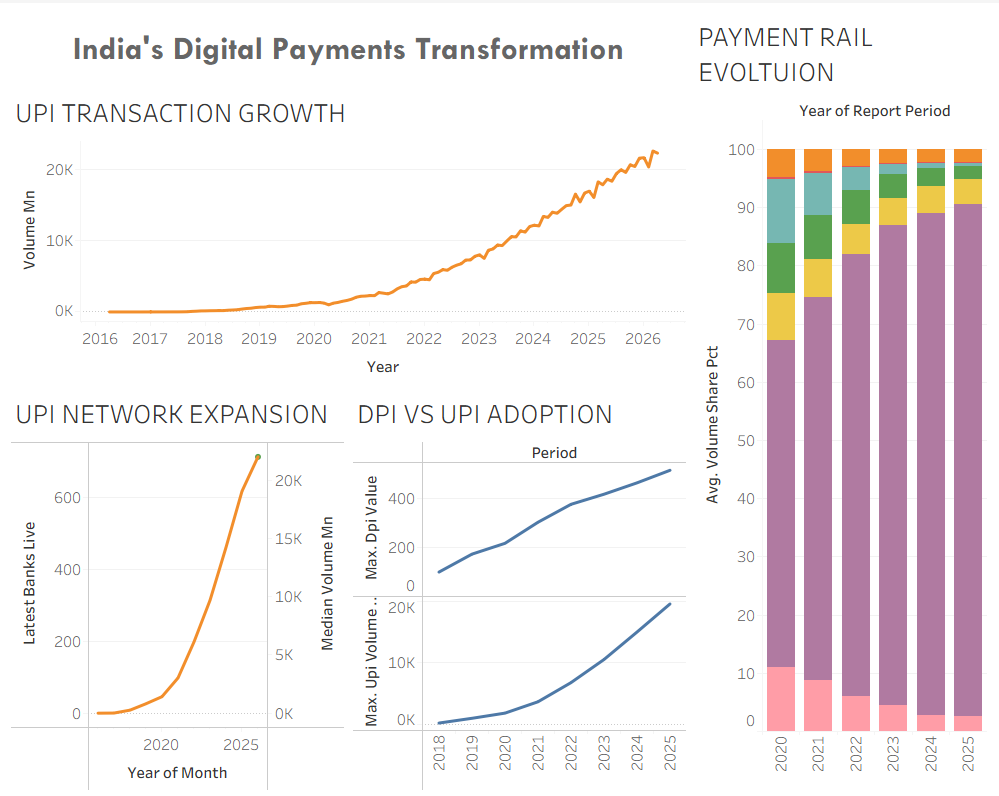

Layout of this report page (visuals, bound fields, positions):
{"tool":"tableau","page":{"name":"Dashboard 1","canvas":[1000,800],"ordinal":0},"visuals":[{"type":"text","box":[8,8,683,76]},{"type":"worksheet","title":"PAYMENT RAIL EVOLTUION","mark":"Bar","rows":["VOLUME_SHARE_PCT"],"cols":["REPORT_PERIOD"],"box":[691,8,301,784]},{"type":"worksheet","title":"UPI_GROWTH","mark":"Automatic","rows":["VOLUME_MN"],"cols":["MONTH"],"box":[8,84,683,301]},{"type":"worksheet","title":"BANK_ADOPTION","mark":"Automatic","rows":["Calculation_0857902892281859","VOLUME_MN"],"cols":["MONTH"],"box":[8,385,341.5,407]},{"type":"worksheet","title":"RBI_DPI VS UPI GROWTH","mark":"Automatic","rows":["DPI_VALUE","UPI_VOLUME_MN"],"cols":["PERIOD"],"box":[349.5,385,341.5,407]}]}

Visuals, with their boxes in screenshot pixels (x1, y1, x2, y2), scaled from the page's 1000x800 canvas onto the 999x796 screenshot:
text: bbox(8, 8, 690, 84)
"PAYMENT RAIL EVOLTUION" worksheet (Bar marks): bbox(690, 8, 991, 788)
"UPI_GROWTH" worksheet: bbox(8, 84, 690, 383)
"BANK_ADOPTION" worksheet: bbox(8, 383, 349, 788)
"RBI_DPI VS UPI GROWTH" worksheet: bbox(349, 383, 690, 788)
